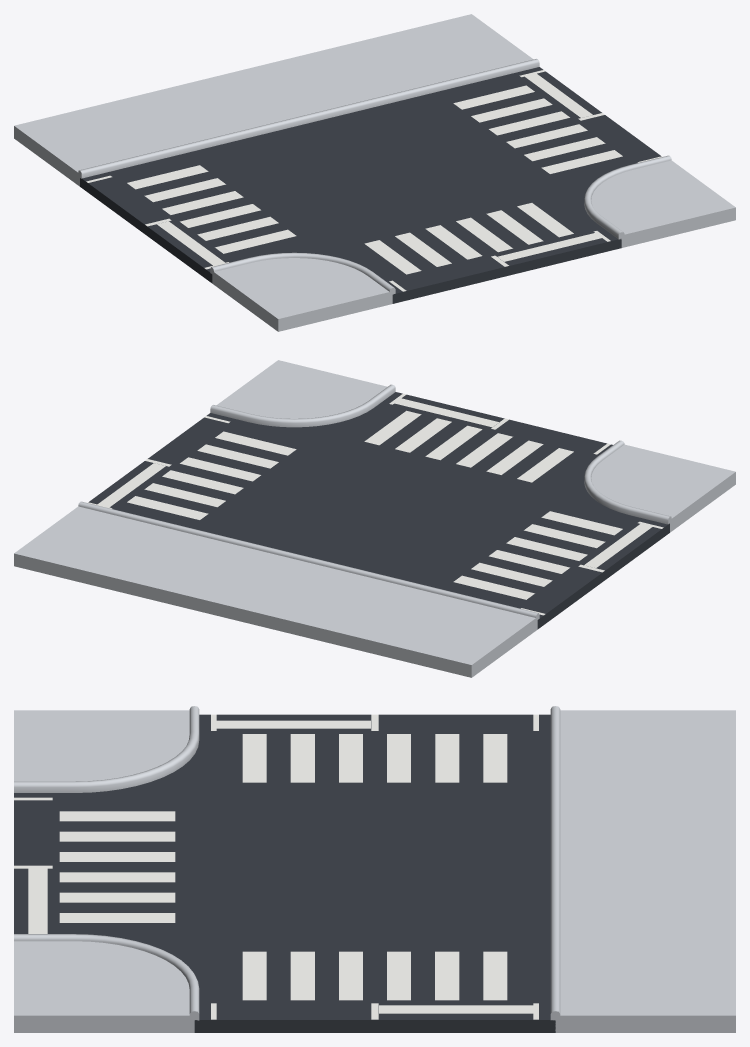
The model's file is rua_cruzamento_t_faixas.glb.
The picture shows the model from 3 angles, top to bottom: view 1: azimuth 30°, elevation 25°; view 2: azimuth 150°, elevation 25°; view 3: azimuth 270°, elevation 25°; orthographic projection. The views are drawn at different scales.
Visible parts, largest first — view 1: rua_cruzamento_t_faixas; view 2: rua_cruzamento_t_faixas; view 3: rua_cruzamento_t_faixas.
Part boxes in pixels (x1,y1,x2,y2): rua_cruzamento_t_faixas: (14, 14, 735, 331); rua_cruzamento_t_faixas: (14, 360, 735, 677); rua_cruzamento_t_faixas: (14, 706, 735, 1032).
Size of the model in its own units: 15 by 0.5 by 15.
1 material, 1 textured.
